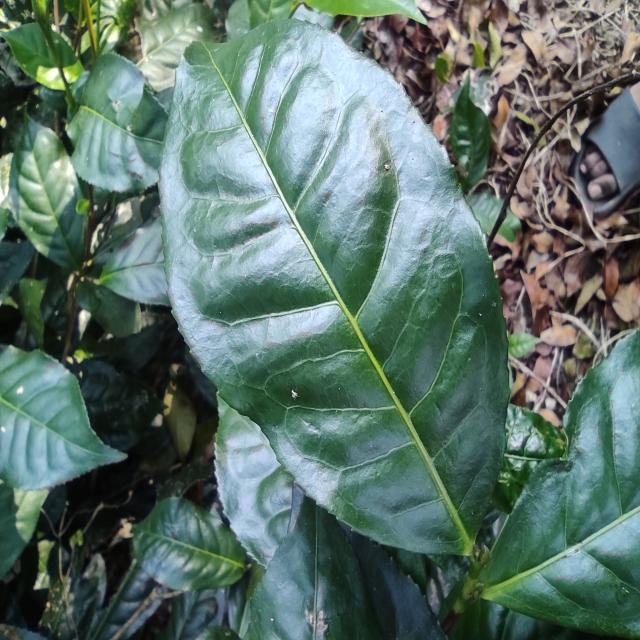Category D(7+ days, Not for Tea): (156, 10, 515, 572)
